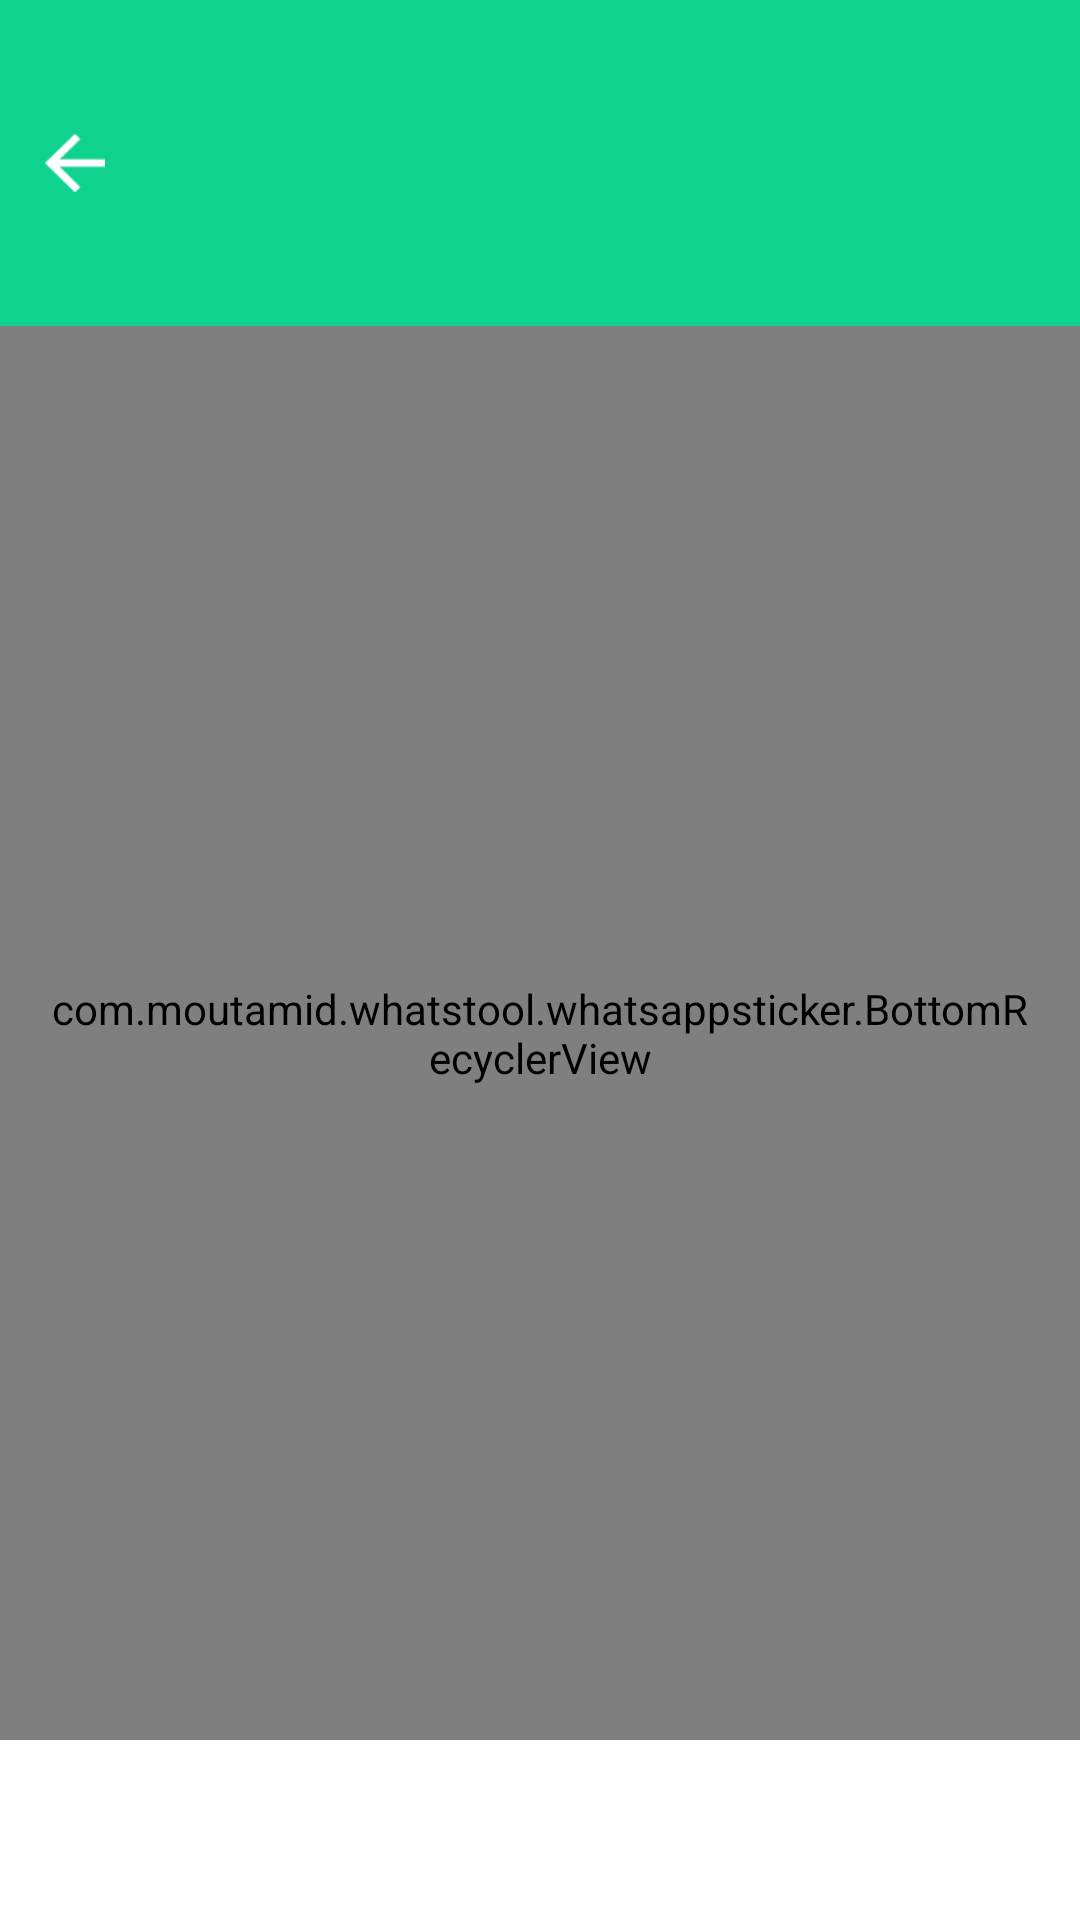

Locate icon controls on the screen. Image size 1080px x 1920px, boxes as (x1, y1, x2, y2).
back: (45, 134, 105, 192)
